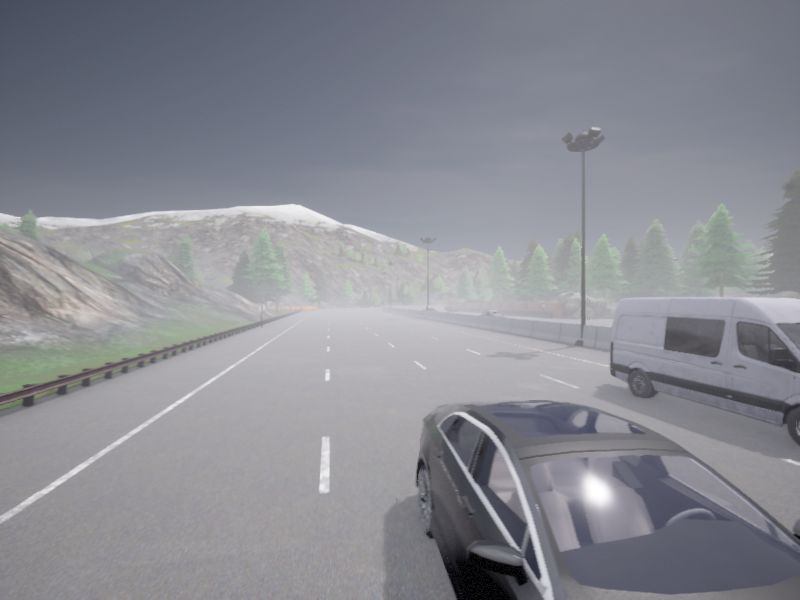vehicle: (415, 400, 799, 599), (610, 297, 799, 445), (480, 310, 502, 316), (445, 306, 455, 311), (422, 307, 434, 310)
